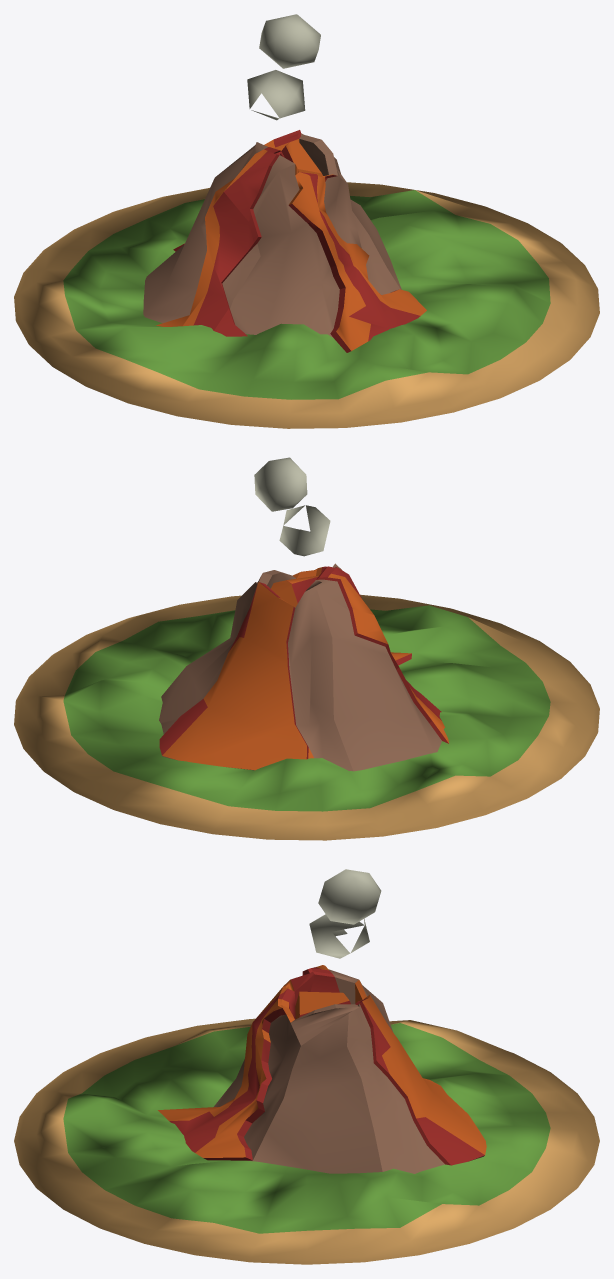
The picture shows the model from 3 angles, top to bottom: view 1: azimuth 30°, elevation 25°; view 2: azimuth 150°, elevation 25°; view 3: azimuth 270°, elevation 25°; orthographic projection.
Parts seen in each view (by area): view 1: Sphere001; view 2: Sphere001; view 3: Sphere001.
Part boxes in pixels (left/top/right/bottom): Sphere001: left=14, top=14, right=599, bottom=428; Sphere001: left=14, top=457, right=599, bottom=840; Sphere001: left=14, top=869, right=599, bottom=1264.
Bounding box in the file's own units: 192 × 97.92 × 192.
